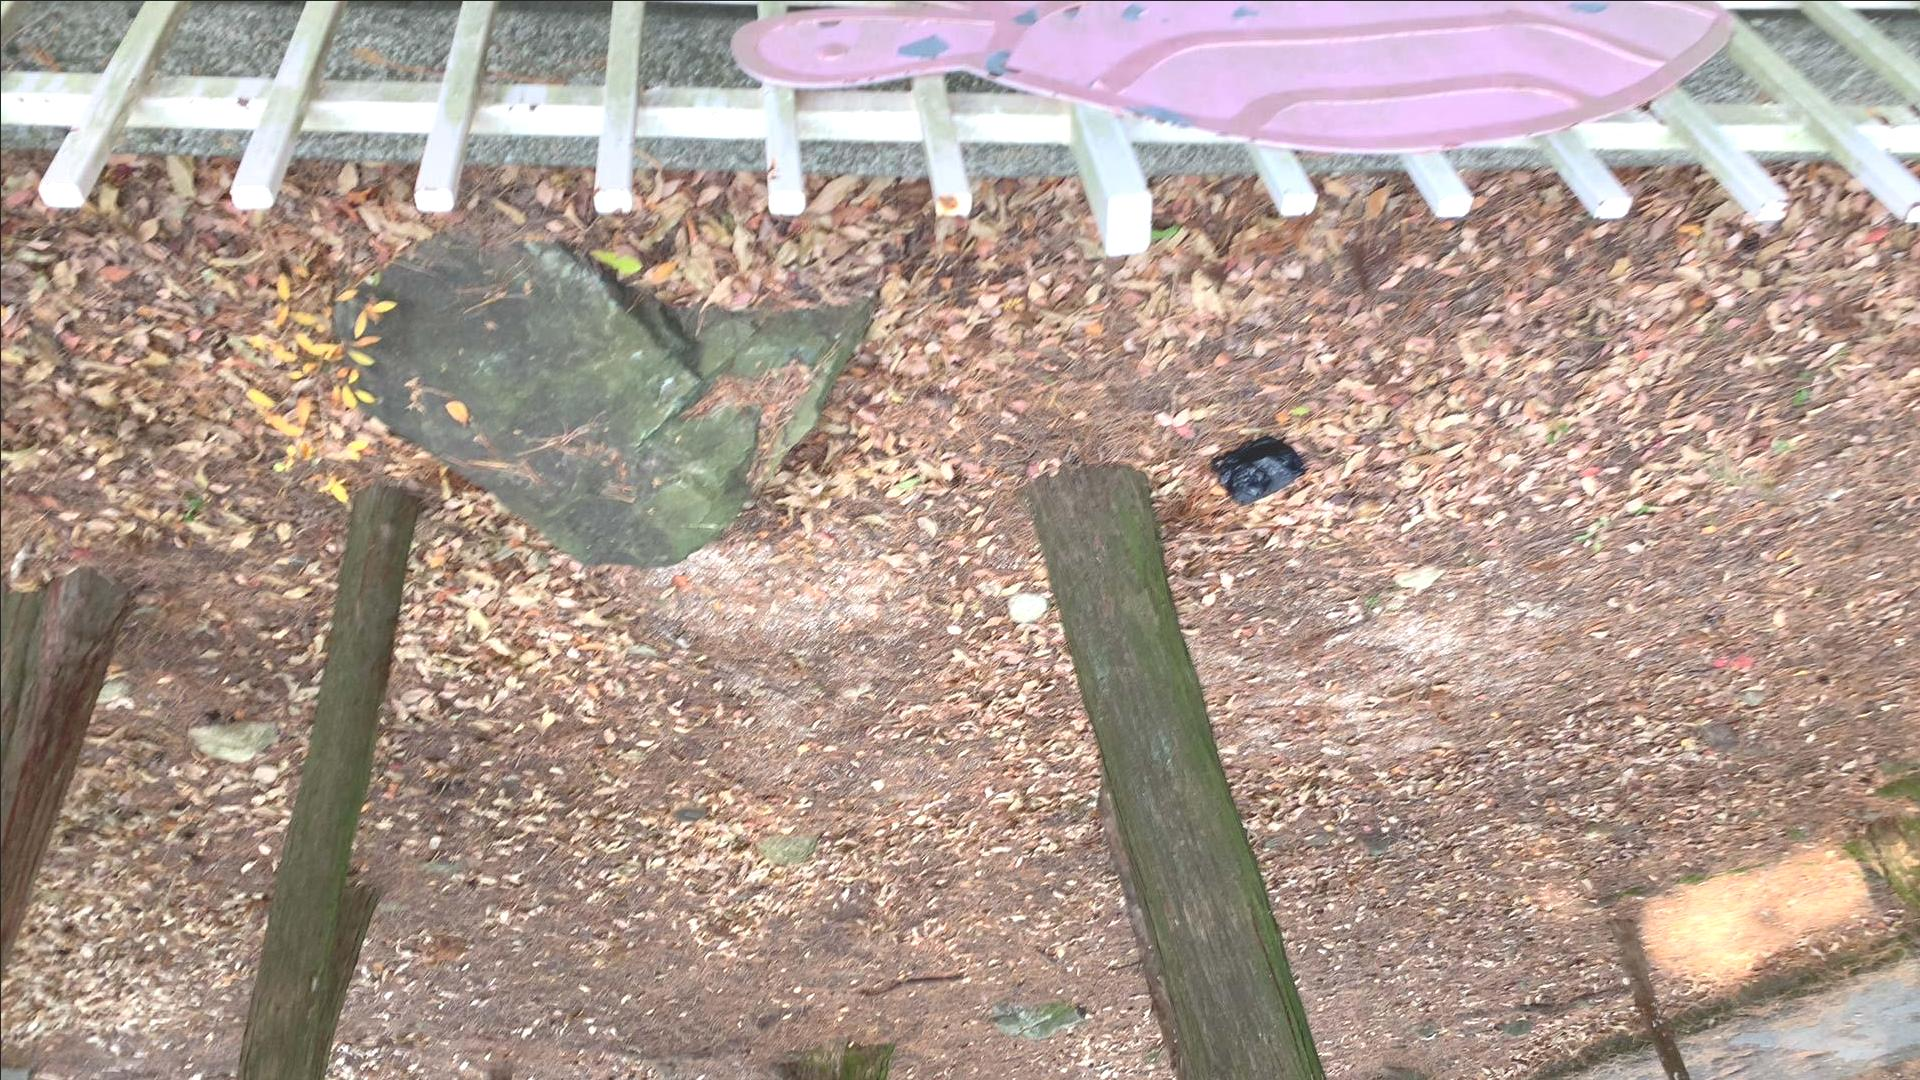black_bag: (1208, 436, 1315, 509)
